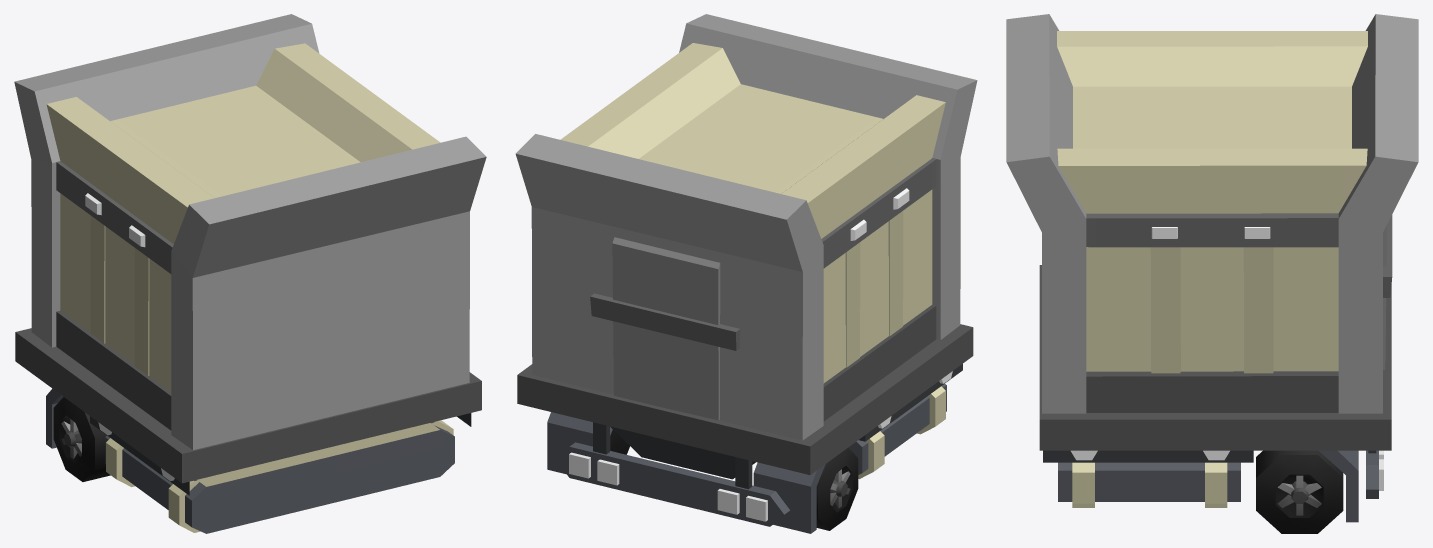
File: cargo_01_B_1.fbx
The picture shows the model from 3 angles, left to right: view 1: azimuth 30°, elevation 25°; view 2: azimuth 150°, elevation 25°; view 3: azimuth 270°, elevation 25°; orthographic projection. The views are drawn at different scales.
Visible parts, largest first — view 1: cargo_01_B_1; view 2: cargo_01_B_1; view 3: cargo_01_B_1.
Boxes of the visible parts, x1,y1,x2,y2 form: cargo_01_B_1: (14, 14, 486, 533); cargo_01_B_1: (515, 14, 977, 533); cargo_01_B_1: (1006, 14, 1418, 533).
Bounding box in the file's own units: 13.93 × 15.97 × 15.71.
